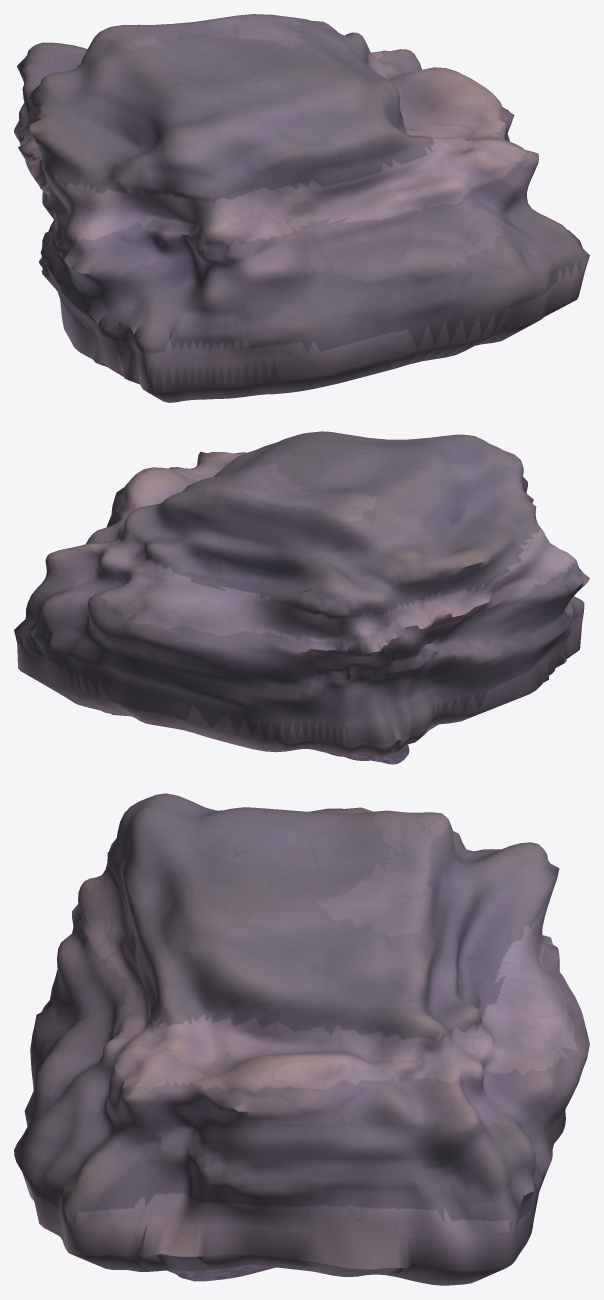
File: WM_RockBasalt.fbx
3 views of the same model, one above another, from view 1: azimuth 30°, elevation 25°; view 2: azimuth 150°, elevation 25°; view 3: azimuth 270°, elevation 25° (orthographic). The views are drawn at different scales.
Parts seen in each view (by area): view 1: WM_RockBasalt_LOD0; view 2: WM_RockBasalt_LOD0; view 3: WM_RockBasalt_LOD0.
Boxes of the visible parts, bbox=[...] form: WM_RockBasalt_LOD0: bbox=[14, 14, 589, 402]; WM_RockBasalt_LOD0: bbox=[14, 431, 589, 764]; WM_RockBasalt_LOD0: bbox=[14, 793, 589, 1285].
Size of what is drawn, in the model's own units: 2.17 by 1.13 by 1.9.
